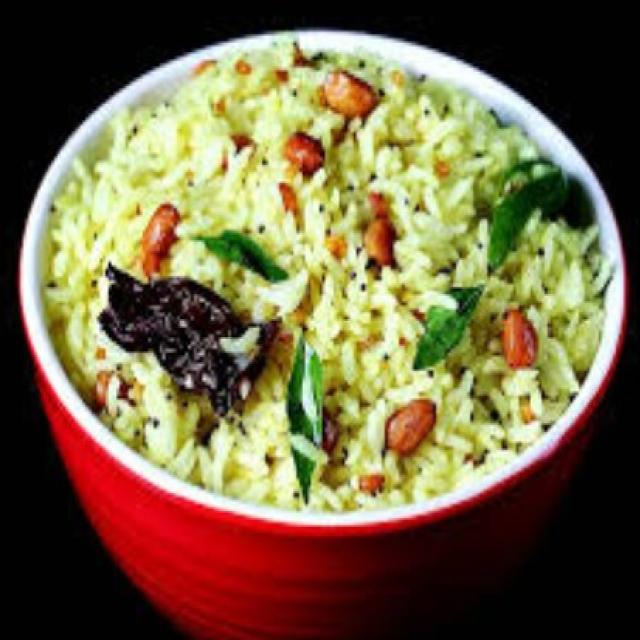lemon satham: (4, 20, 640, 536)
